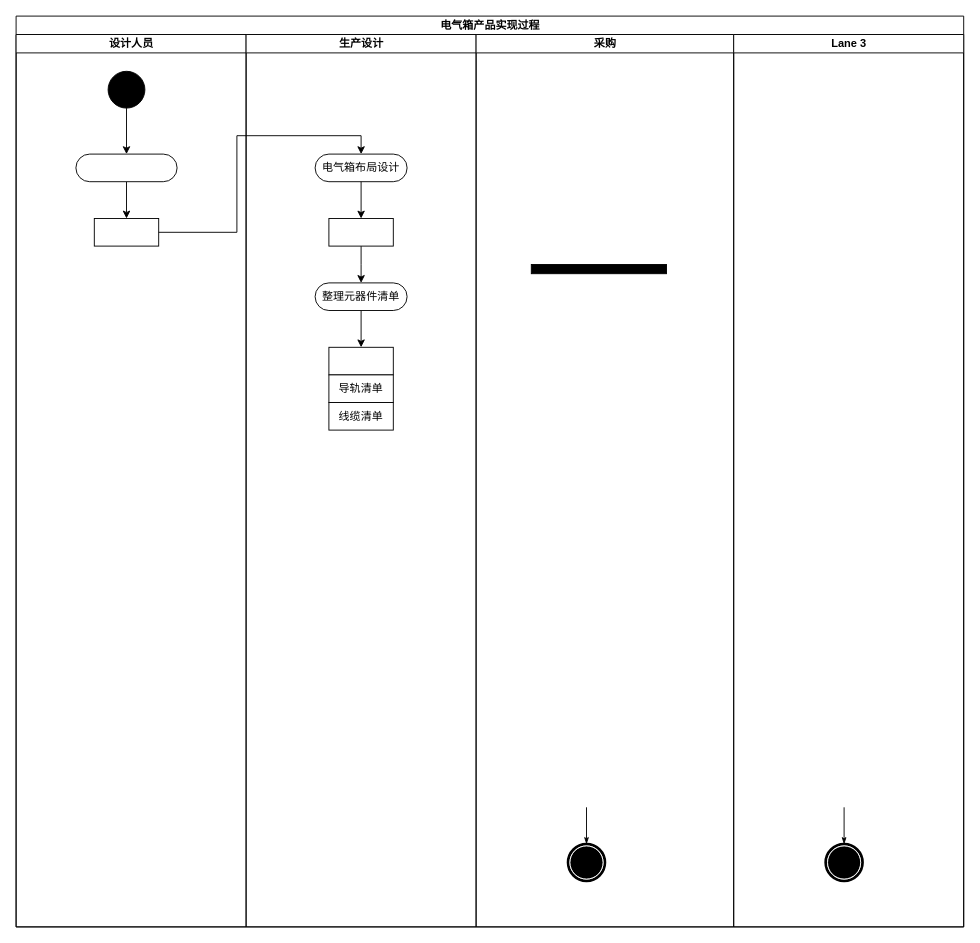
Some shapes in this 980 by 943 pixel diagram are drawn without their labels. The centre of each missing label's shape, as x and y in pixels:
EPLAN 原理图: (x=126, y=232)
PRO PANEL 布局图: (x=360, y=232)
元器件清单: (x=360, y=360)
电器箱设计: (x=126, y=167)
